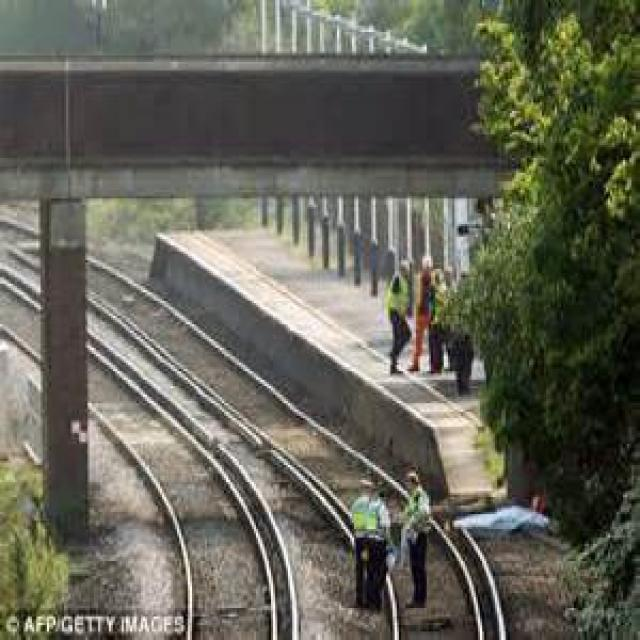danger: (352, 474, 393, 616), (401, 464, 431, 611), (386, 260, 412, 378), (416, 252, 437, 378), (438, 264, 457, 374)
rail: (0, 205, 493, 640)
